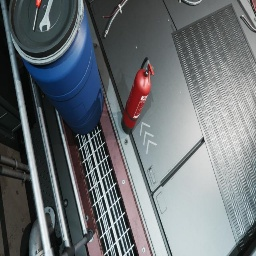FireExtinguisher ]: (121, 57, 154, 134)
